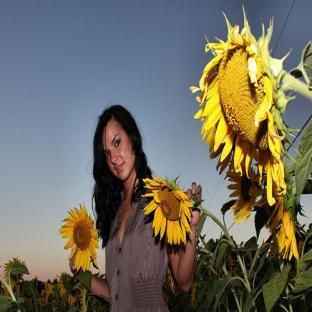sunflower: (189, 4, 305, 207)
